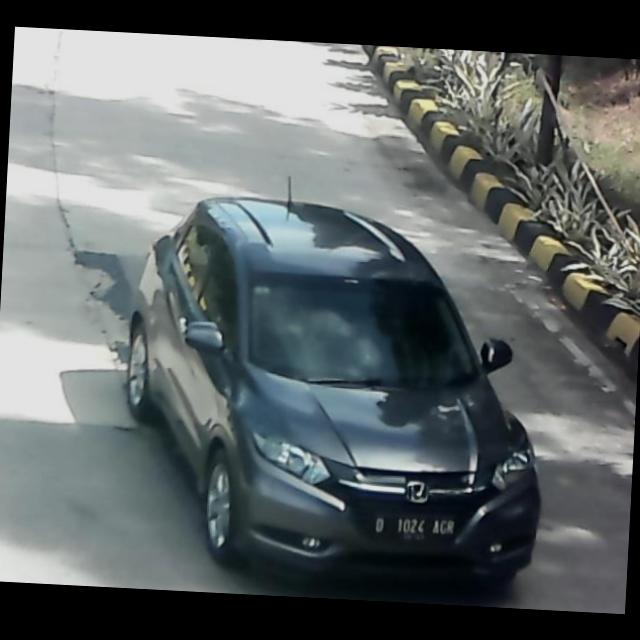plate: (364, 510, 461, 544)
